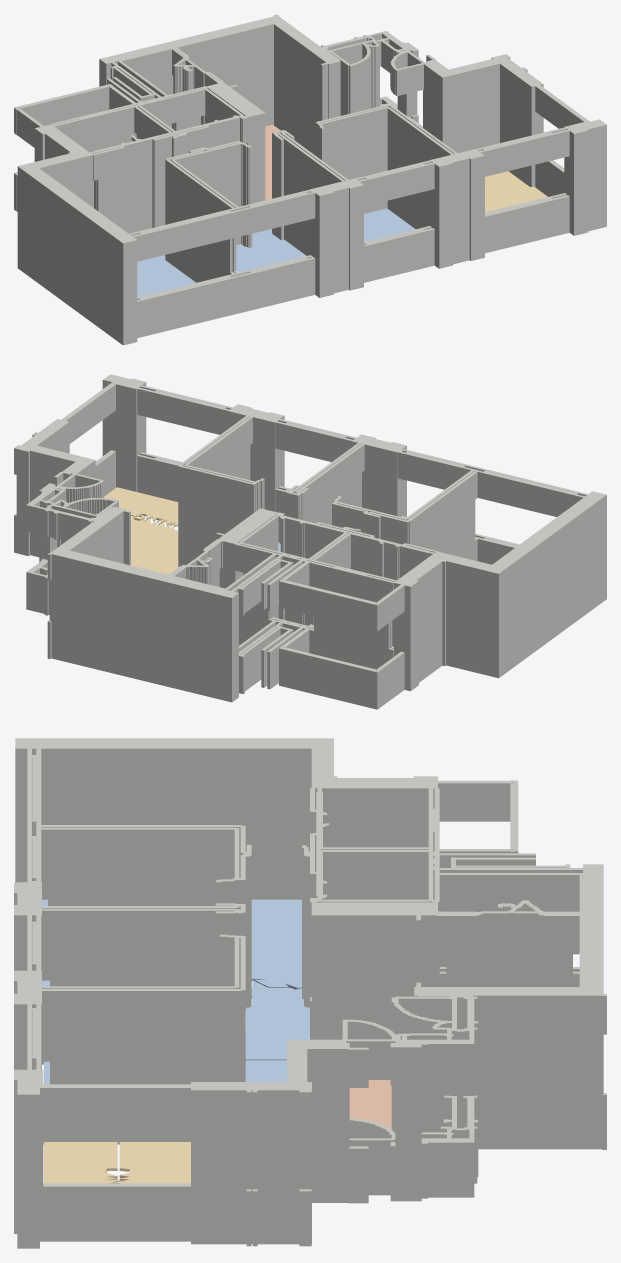
The picture shows the model from 3 angles, top to bottom: view 1: azimuth 30°, elevation 25°; view 2: azimuth 150°, elevation 25°; view 3: azimuth 270°, elevation 25°; orthographic projection. The views are drawn at different scales.
Visible parts, largest first — view 1: walls, room:bedroom:8, room:living:5, room:bedroom:9, room:bedroom:7, room:kitchen:0; view 2: walls, room:living:5, room:living:6; view 3: walls, room:bedroom:9, room:bedroom:8, room:living:6, room:living:5, room:kitchen:0, room:bedroom:7.
Boxes of the visible parts, x1,y1,x2,y2 form: walls: [14, 14, 606, 345]; room:bedroom:8: [236, 229, 306, 272]; room:living:5: [485, 171, 547, 212]; room:bedroom:9: [137, 255, 195, 296]; room:bedroom:7: [364, 208, 415, 241]; room:kitchen:0: [265, 124, 280, 200]; walls: [14, 374, 606, 709]; room:living:5: [131, 515, 178, 574]; room:living:6: [104, 487, 178, 526]; walls: [14, 738, 606, 1248]; room:bedroom:9: [42, 899, 301, 989]; room:bedroom:8: [42, 980, 309, 1060]; room:living:6: [44, 1142, 119, 1183]; room:living:5: [115, 1142, 190, 1183]; room:kitchen:0: [349, 1080, 391, 1129]; room:bedroom:7: [44, 1060, 286, 1084].
Bounding box in the file's own units: 13.91 × 2.8 × 9.78.
